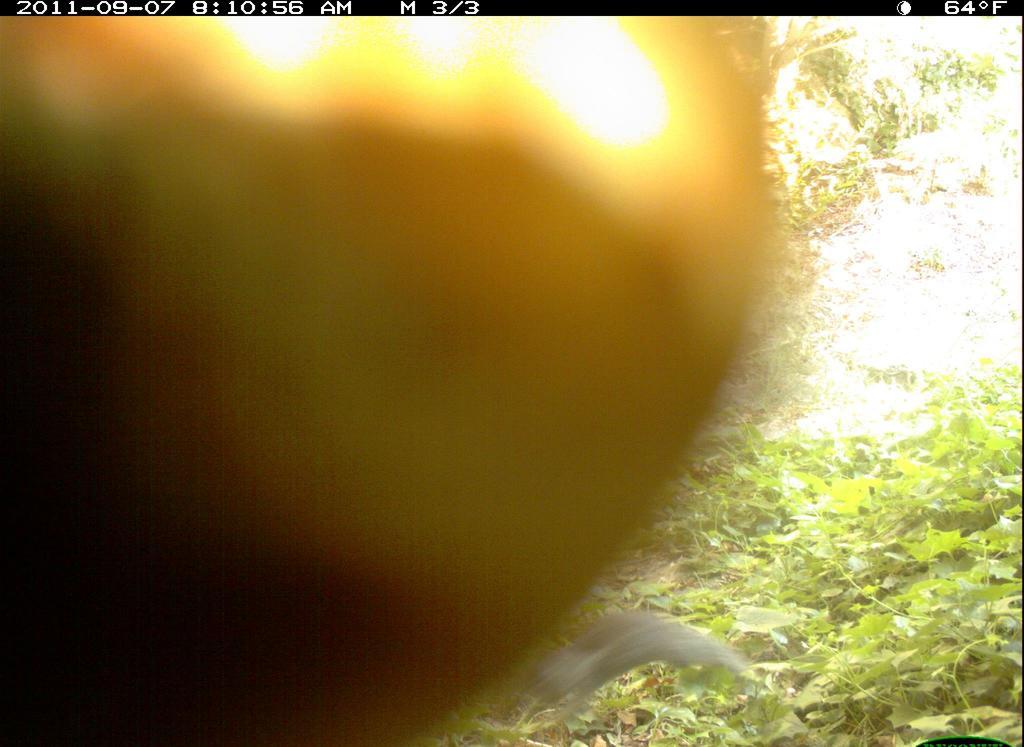squirrel: (506, 592, 777, 740)
